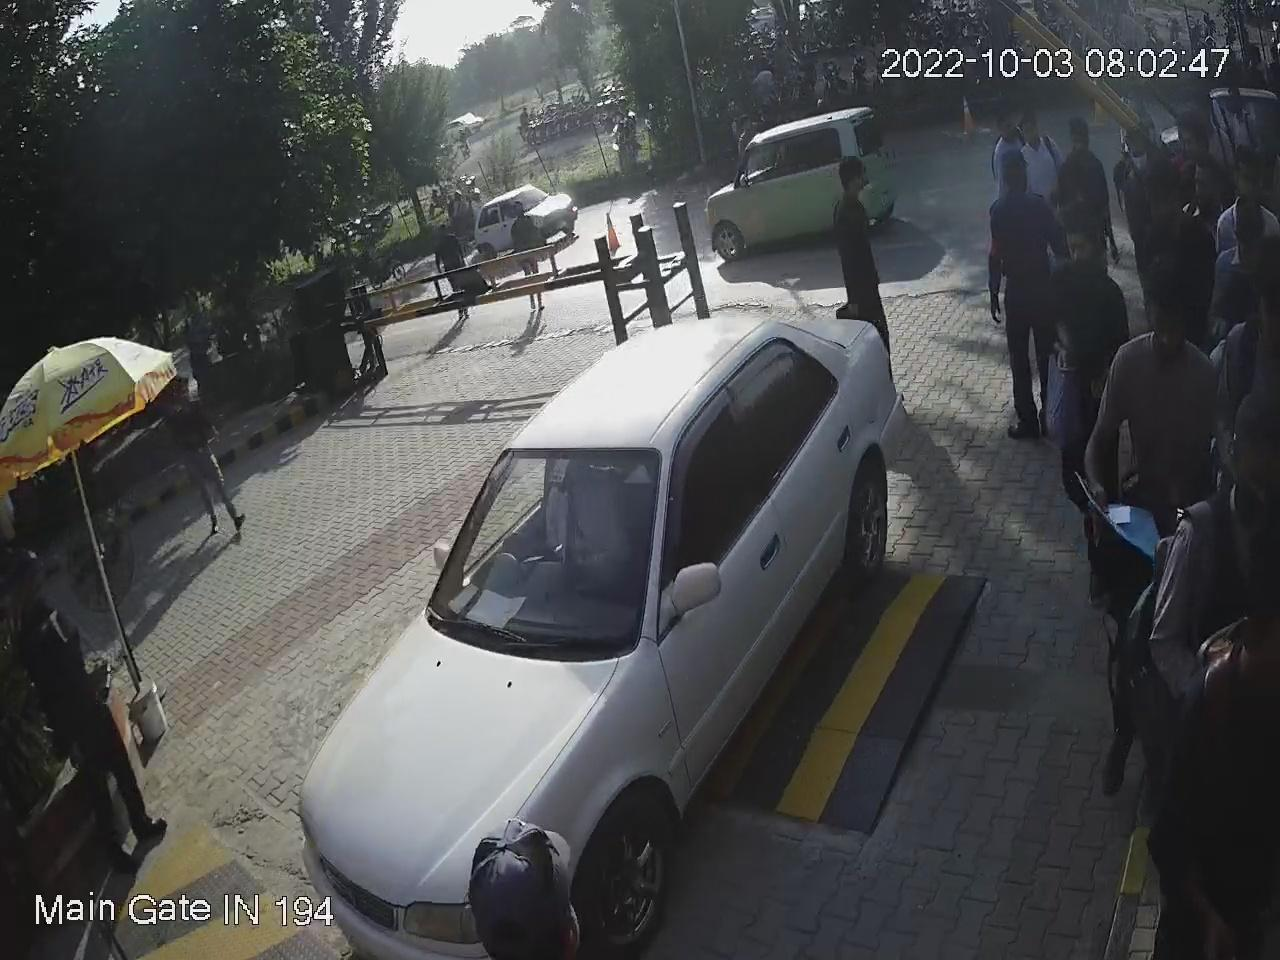windshield: (428, 440, 670, 652)
